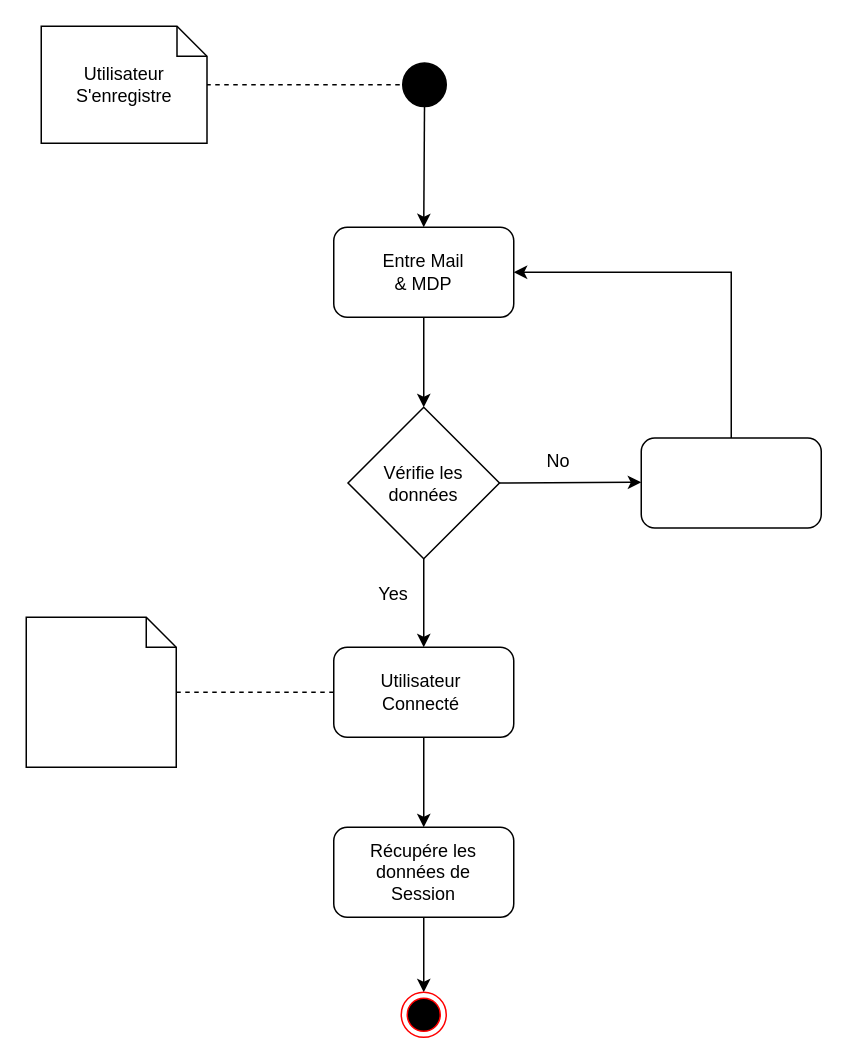
Some shapes in this 848 by 1064 pixel diagram are drawn without their labels. Each missing label, with the box of its shape:
Mail & MDP Incorrect: (640, 436, 821, 528)
Renvoie vers Page Profil: (25, 616, 176, 767)
